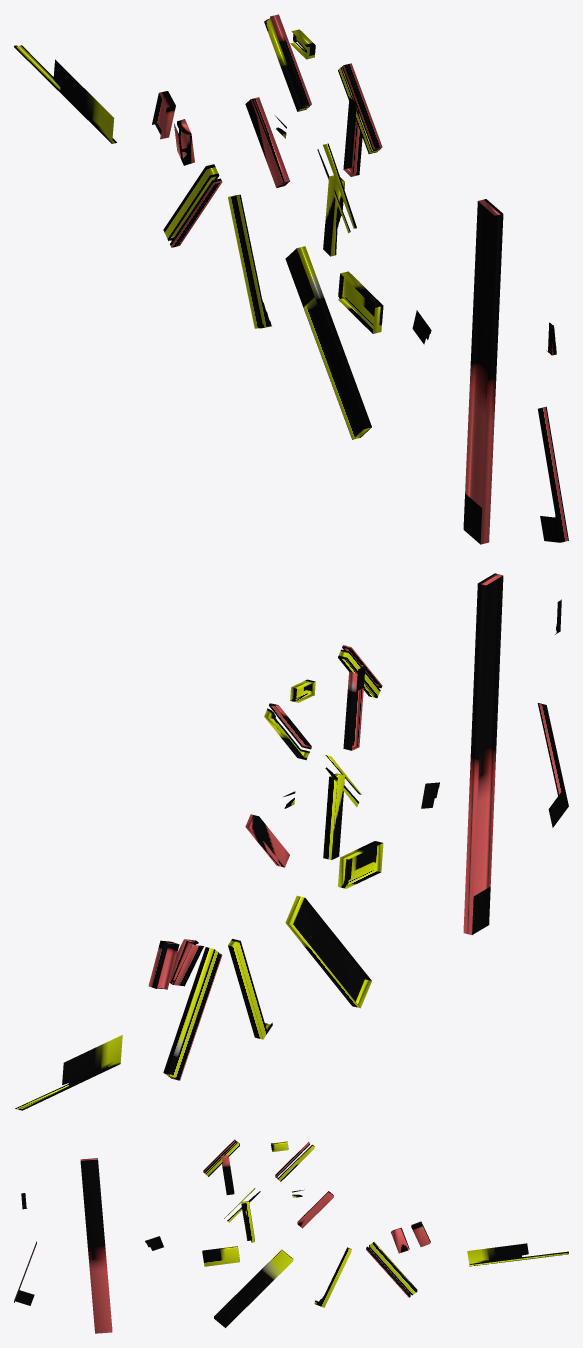
The model's file is moji.obj.
3 renders of one model, top to bottom at view 1: azimuth 30°, elevation 25°; view 2: azimuth 150°, elevation 25°; view 3: azimuth 270°, elevation 25°, orthographic. The views are drawn at different scales.
Visible parts, largest first — view 1: Cube.031; view 2: Cube.031; view 3: Cube.031.
Part boxes in pixels (<box>): Cube.031: <box>14,14,568,544</box>; Cube.031: <box>15,573,568,1110</box>; Cube.031: <box>14,1139,568,1333</box>.
Size of the model in its own units: 2.78 by 42.3 by 111.
